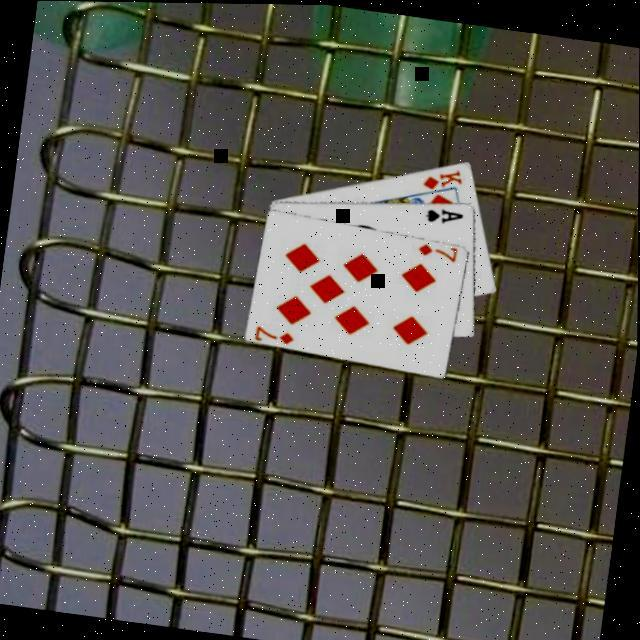7D: (253, 318, 300, 344), (416, 236, 462, 262)
AS: (425, 198, 469, 225)
KD: (420, 158, 468, 193)
